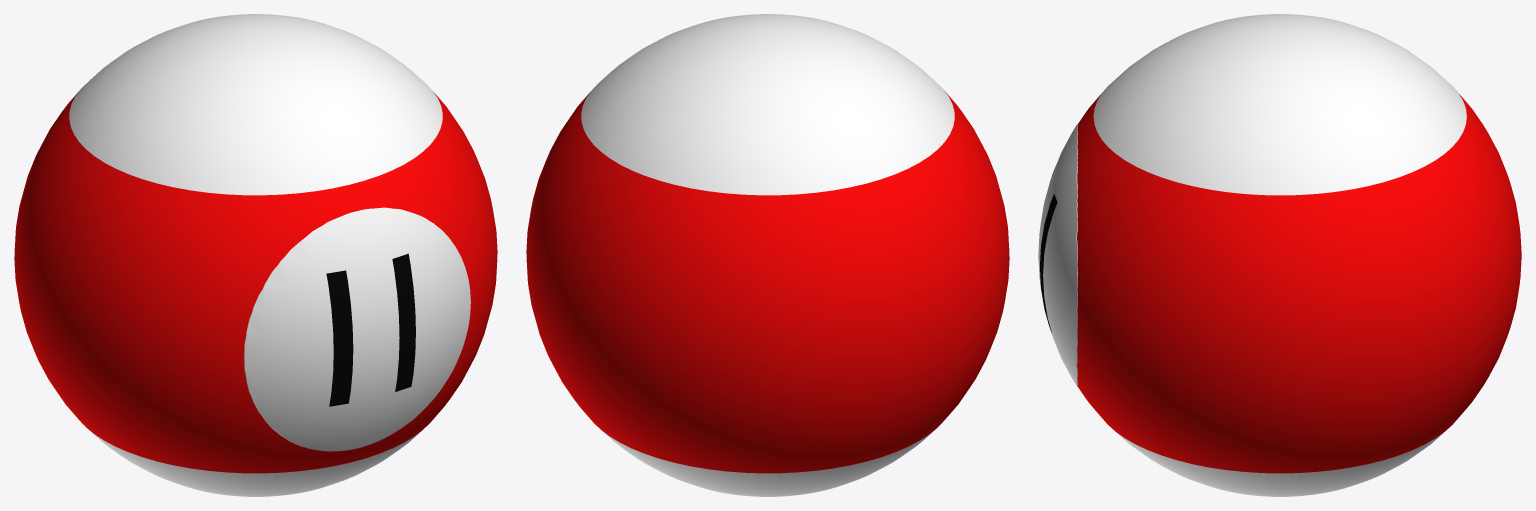
The model's file is Ball11.fbx.
3 renders of one model, left to right at view 1: azimuth 30°, elevation 25°; view 2: azimuth 150°, elevation 25°; view 3: azimuth 270°, elevation 25°, orthographic.
Parts seen in each view (by area): view 1: Ball11; view 2: Ball11; view 3: Ball11.
Part boxes in pixels (bbox=[...]): Ball11: bbox=[14, 14, 497, 496]; Ball11: bbox=[526, 14, 1009, 496]; Ball11: bbox=[1038, 14, 1521, 496].
Bounding box in the file's own units: 5.7 × 5.7 × 5.7.
